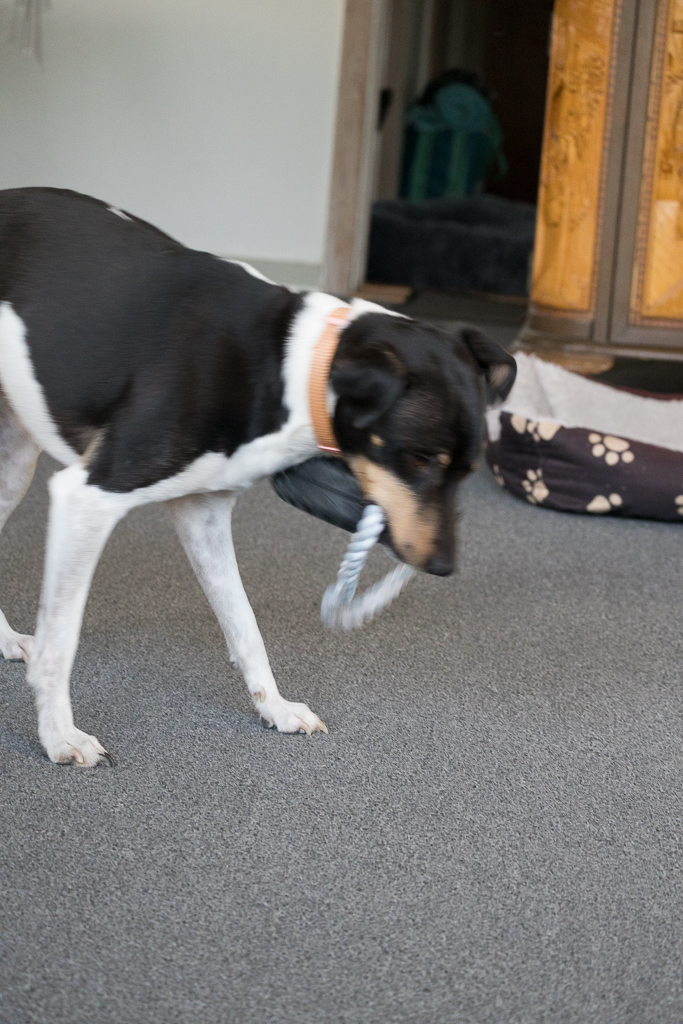Dog: (0, 179, 534, 777)
